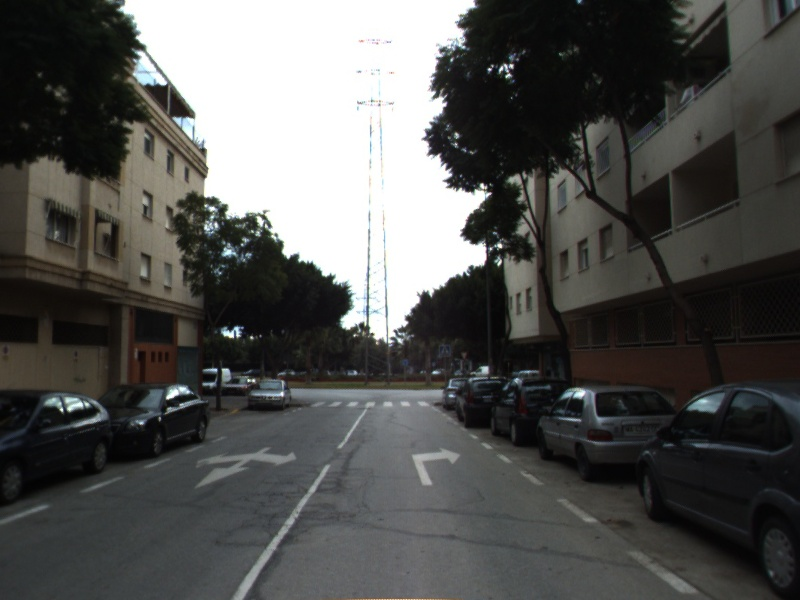RIGHT: (410, 446, 462, 487)
